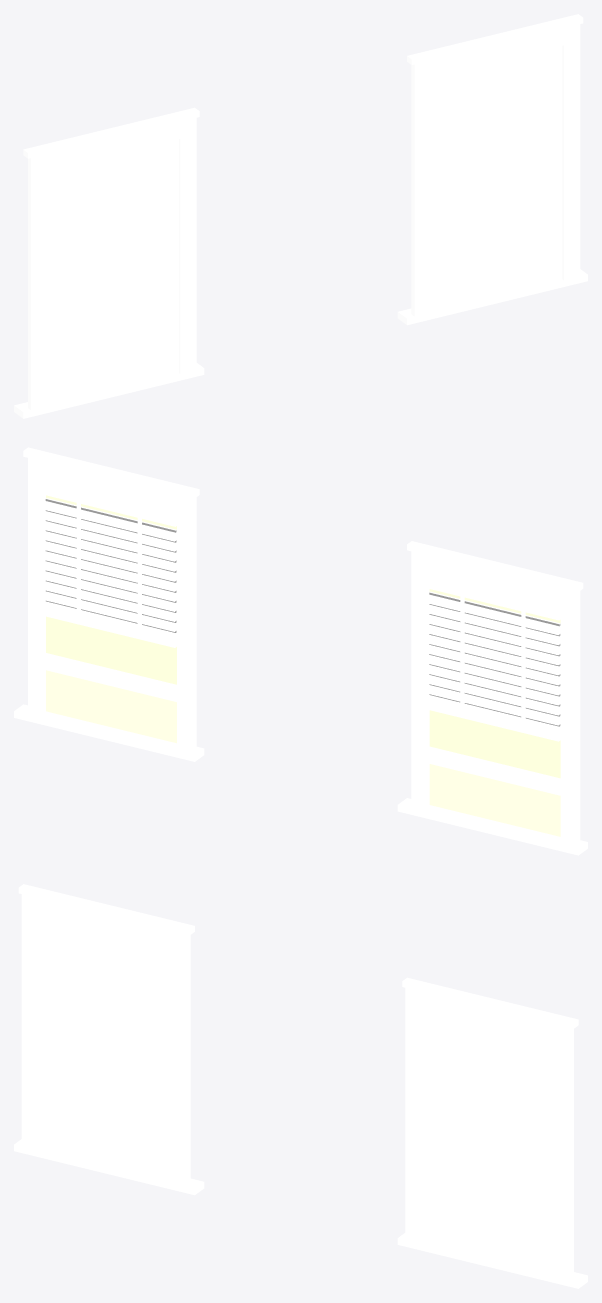
The model's file is dining_windows_south.glb.
The picture shows the model from 3 angles, top to bottom: view 1: azimuth 30°, elevation 25°; view 2: azimuth 150°, elevation 25°; view 3: azimuth 330°, elevation 25°; orthographic projection.
Parts seen in each view (by area): view 1: root; view 2: root; view 3: root.
Boxes of the visible parts, bbox=[...] form: root: bbox=[14, 14, 587, 418]; root: bbox=[14, 447, 587, 855]; root: bbox=[14, 884, 587, 1288].
Bounding box in the file's own units: 3.14 × 1.41 × 0.0914.
